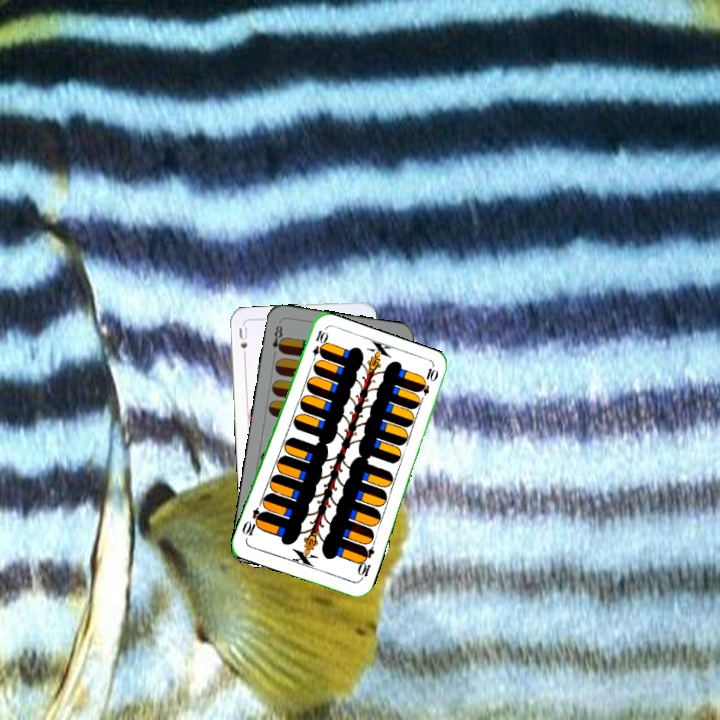E10: (353, 543, 377, 583), (307, 326, 329, 366)
E8: (268, 321, 287, 359)
SU: (235, 323, 250, 362)
